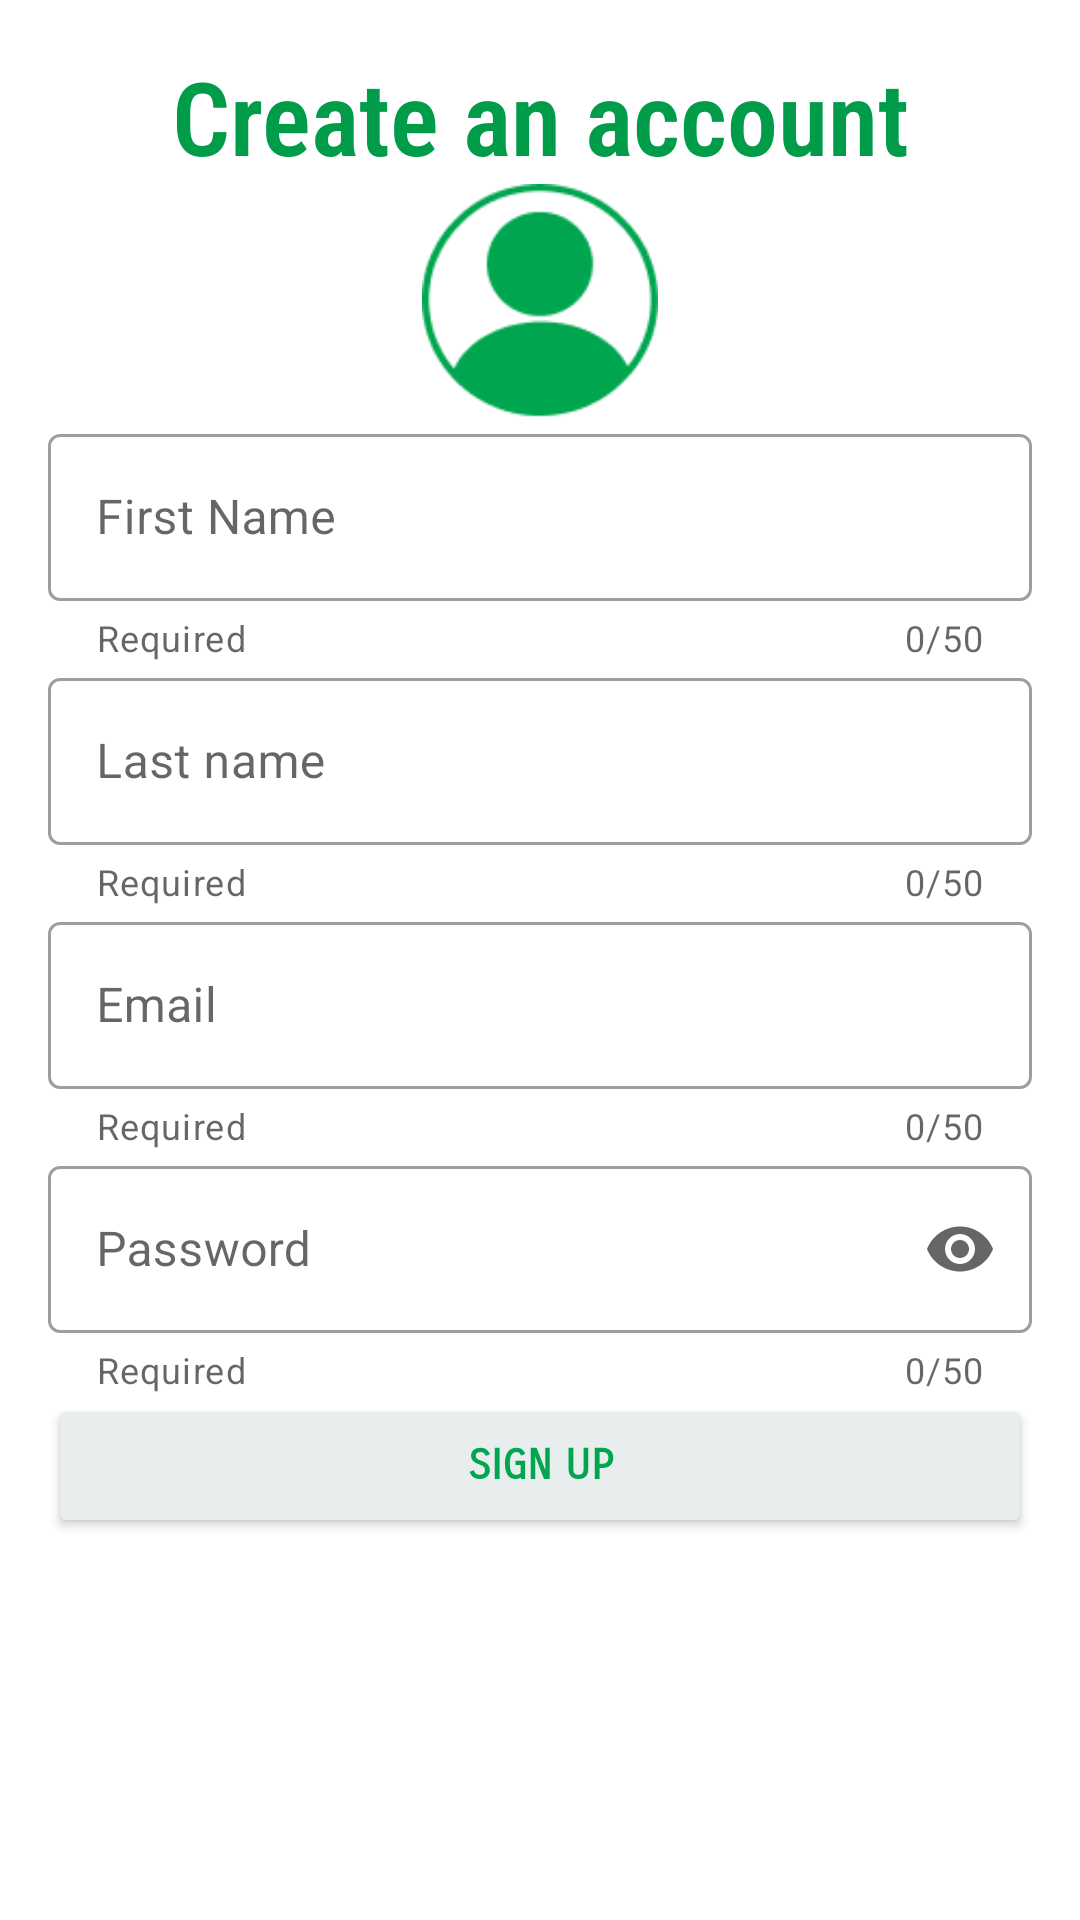

Where to tap for icons on this 1080 x 1920 app screen, as (x=x, y=y):
user: (x=540, y=300)
